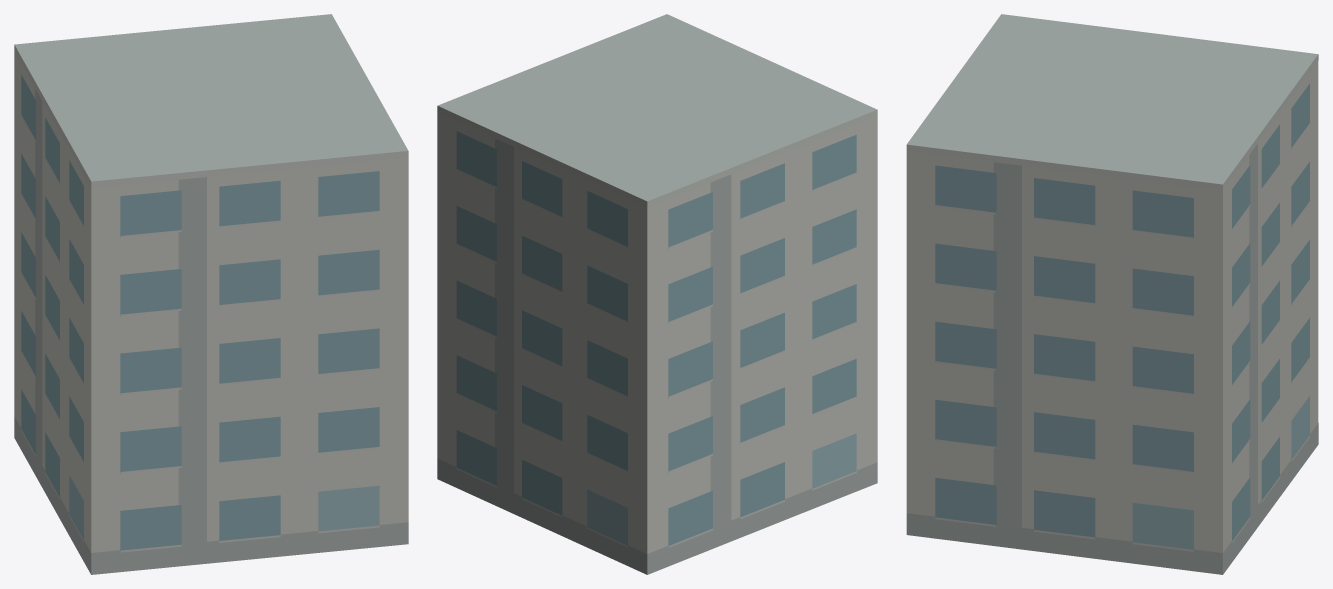
File: survey-upis-33011251.glb
3 renders of one model, left to right at view 1: azimuth 30°, elevation 25°; view 2: azimuth 150°, elevation 25°; view 3: azimuth 270°, elevation 25°, orthographic. The views are drawn at different scales.
Visible parts, largest first — view 1: survey-upis-33011251.tmp; view 2: survey-upis-33011251.tmp; view 3: survey-upis-33011251.tmp.
Boxes of the visible parts, bbox=[...] form: survey-upis-33011251.tmp: bbox=[14, 14, 408, 574]; survey-upis-33011251.tmp: bbox=[437, 14, 877, 574]; survey-upis-33011251.tmp: bbox=[906, 14, 1318, 574].
Size of the model in its own units: 13.5 by 14.4 by 13.78.
